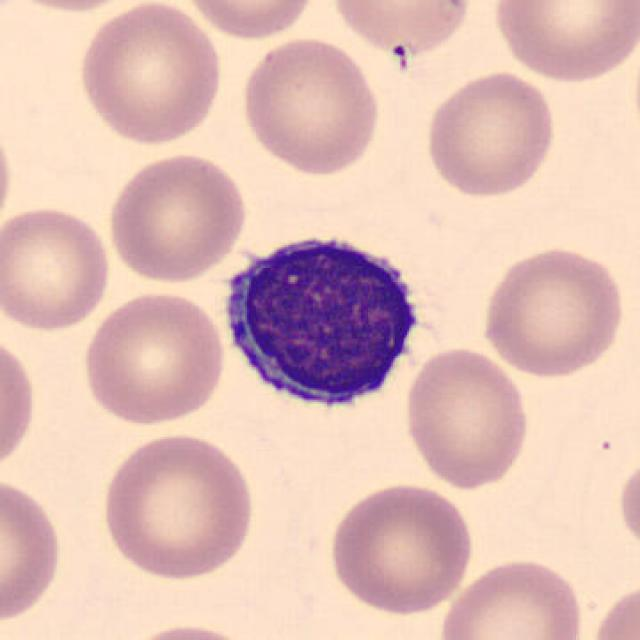Lymphocyte: (212, 219, 439, 423)
RBC: (96, 428, 260, 582), (73, 0, 226, 148), (476, 241, 630, 381), (236, 34, 384, 178), (78, 287, 228, 428), (326, 480, 476, 617), (103, 148, 251, 286), (400, 344, 533, 492), (420, 67, 558, 199), (0, 203, 114, 335), (435, 553, 588, 640), (488, 0, 638, 86), (0, 472, 66, 628), (326, 0, 476, 55), (0, 326, 39, 483), (178, 0, 322, 42), (585, 578, 638, 640), (115, 619, 265, 640), (613, 451, 640, 561), (0, 109, 16, 245), (0, 0, 151, 14)
